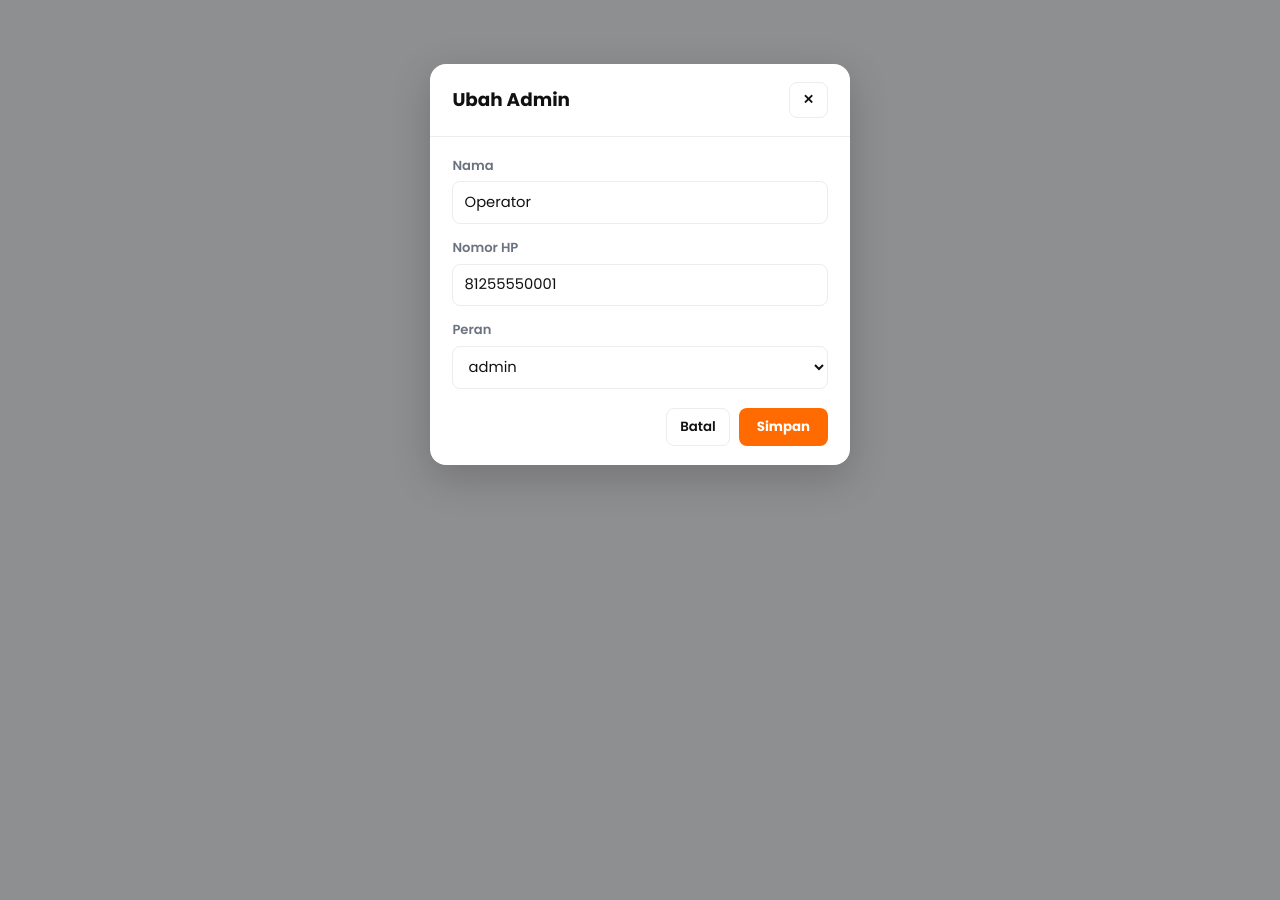
Scenario: AdminEditModal › surfaces a backend error and does not close
Step 1. Click the button "Simpan" → (783,427), box top-left (739, 408), bottom-right (828, 446)
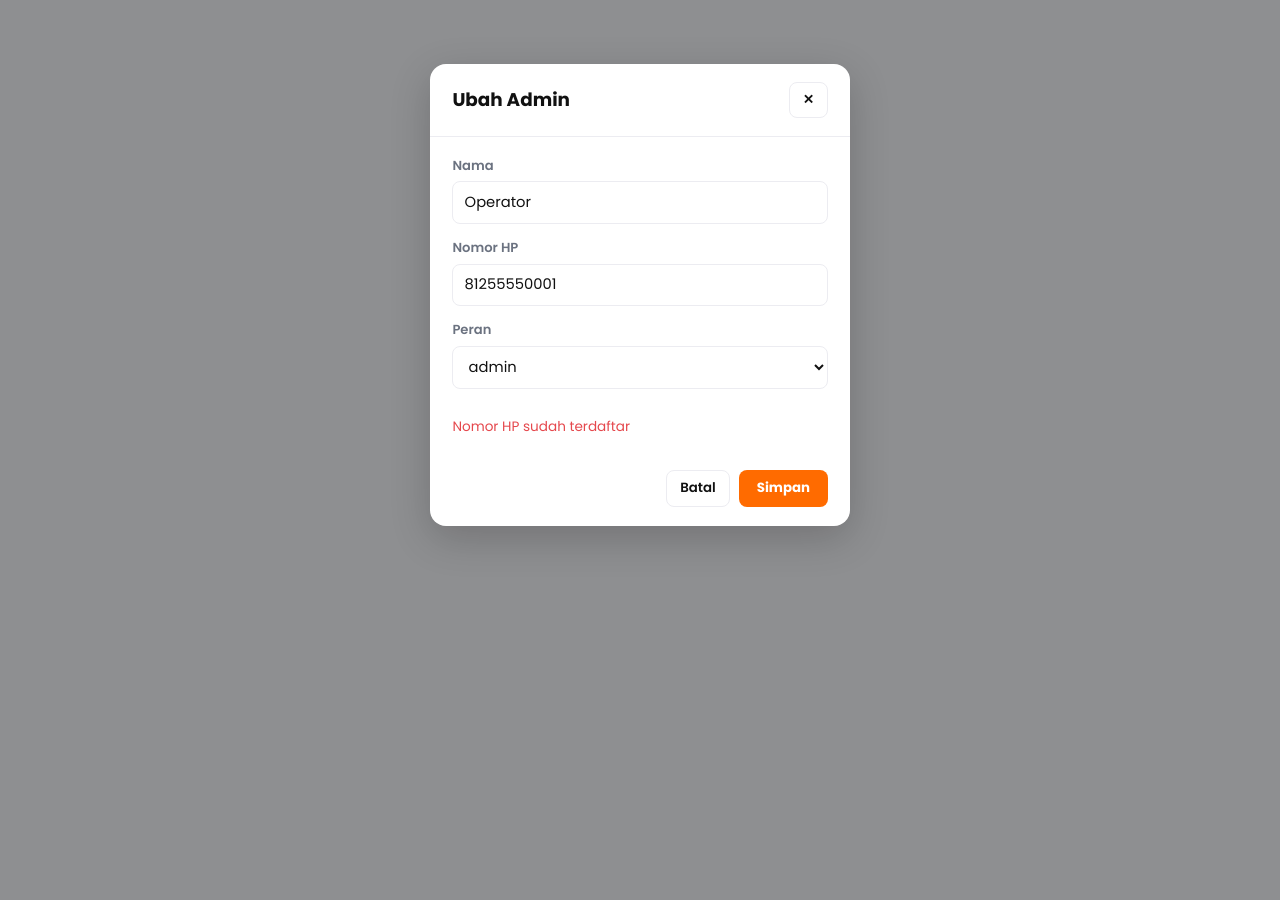
Check: the text "Nomor HP sudah terdaftar" is shown, box top-left (452, 417), bottom-right (630, 436)
